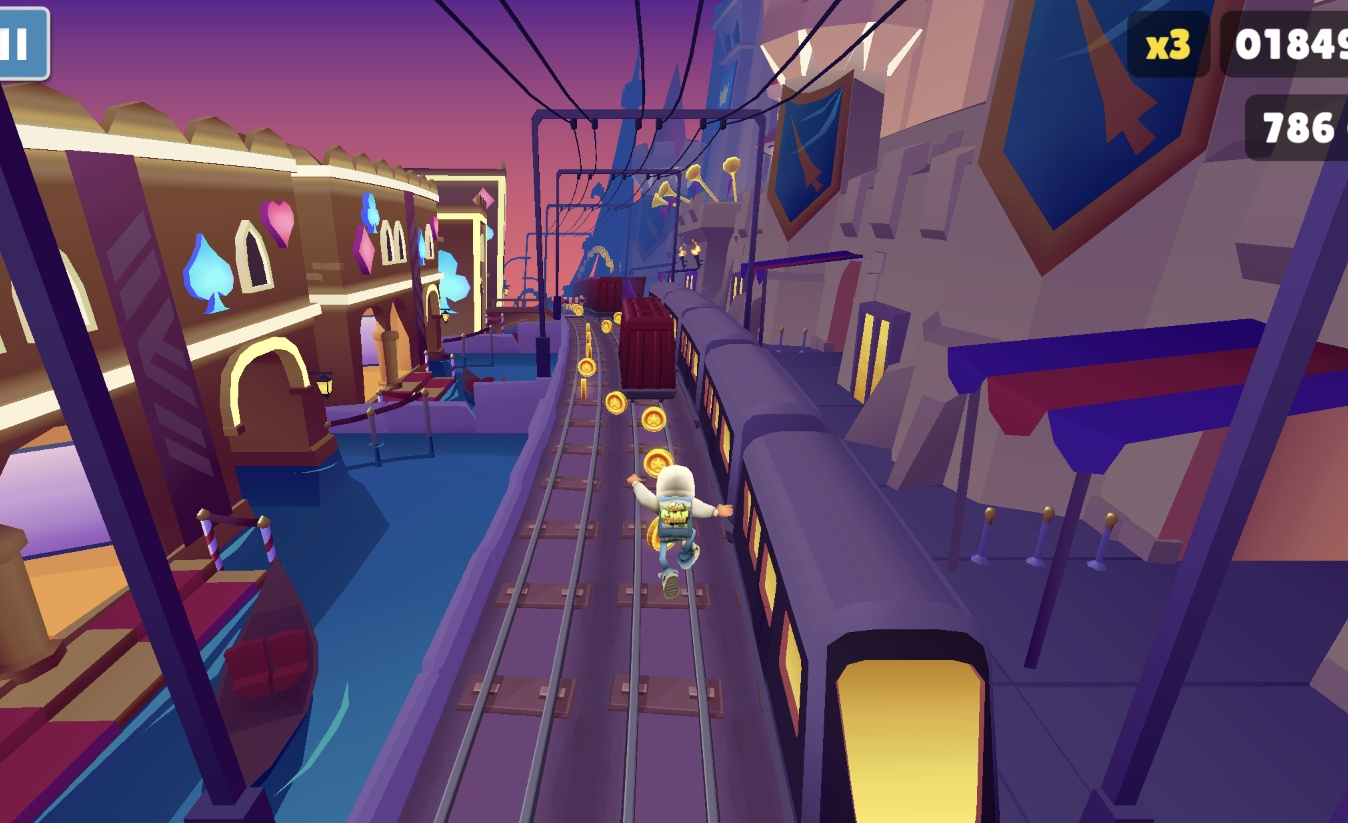train: (650, 282, 1004, 823), (616, 295, 679, 400), (566, 276, 645, 315)
